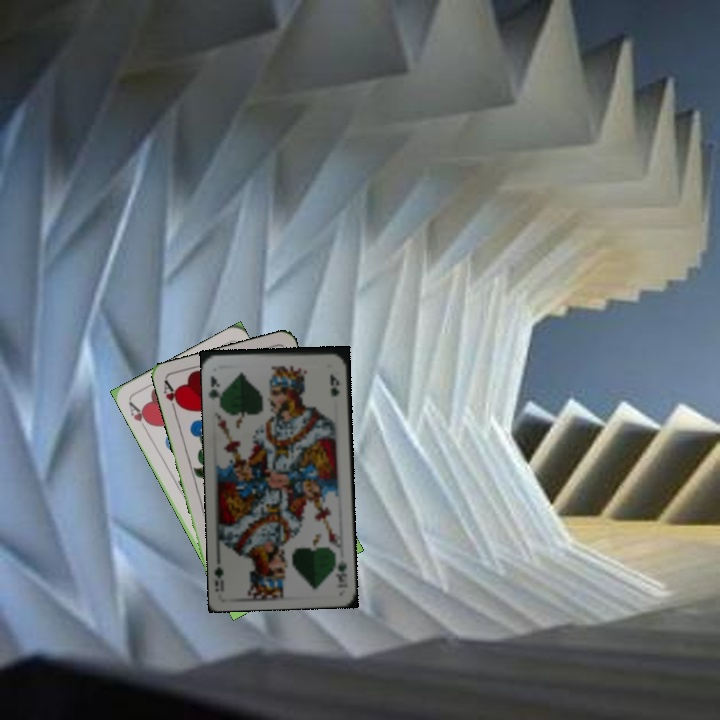GK: (205, 372, 225, 403), (332, 556, 350, 585)
HA: (124, 397, 154, 435), (159, 377, 184, 417)
